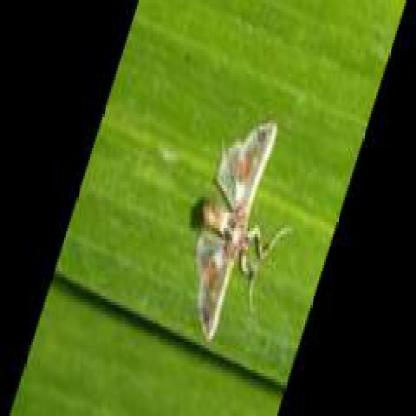leucinodes: (195, 124, 275, 346)
